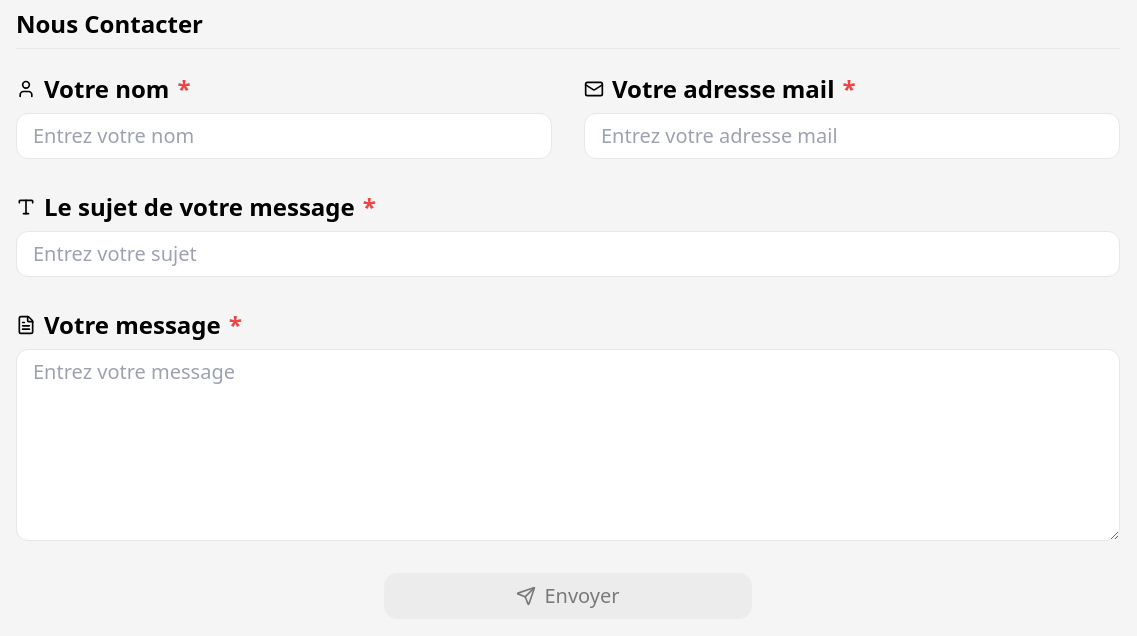
contact.vue › should render the submit button as enabled when the form is valid
Type "John Doe" into the field labelled "Votre nom *" at coordinates (284, 136), box [16,113,552,159]
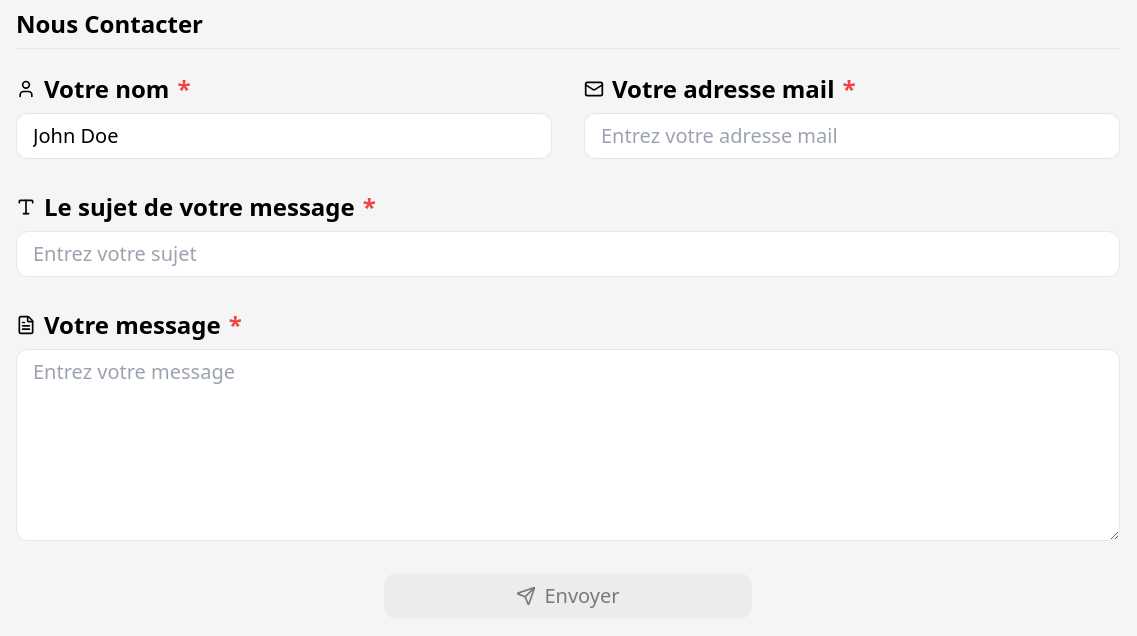
Type "john@example.com" into the field labelled "Votre adresse mail *" at coordinates (852, 136), box [584,113,1120,159]
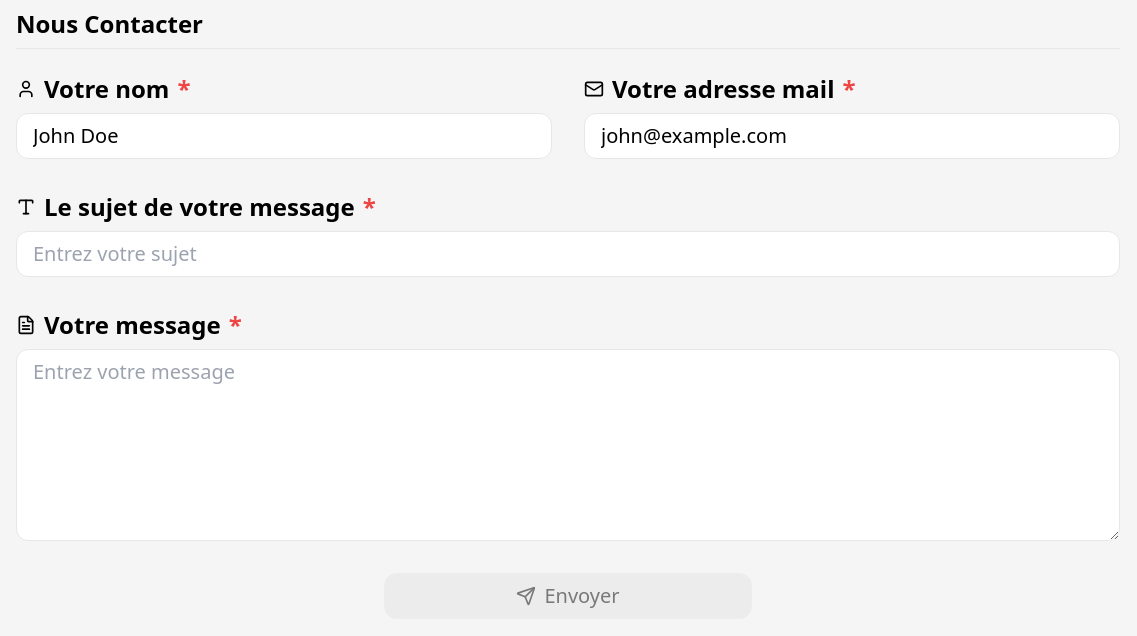
Type "Hello" into the field labelled "Le sujet de votre message *" at coordinates (568, 254), box [16,231,1120,277]
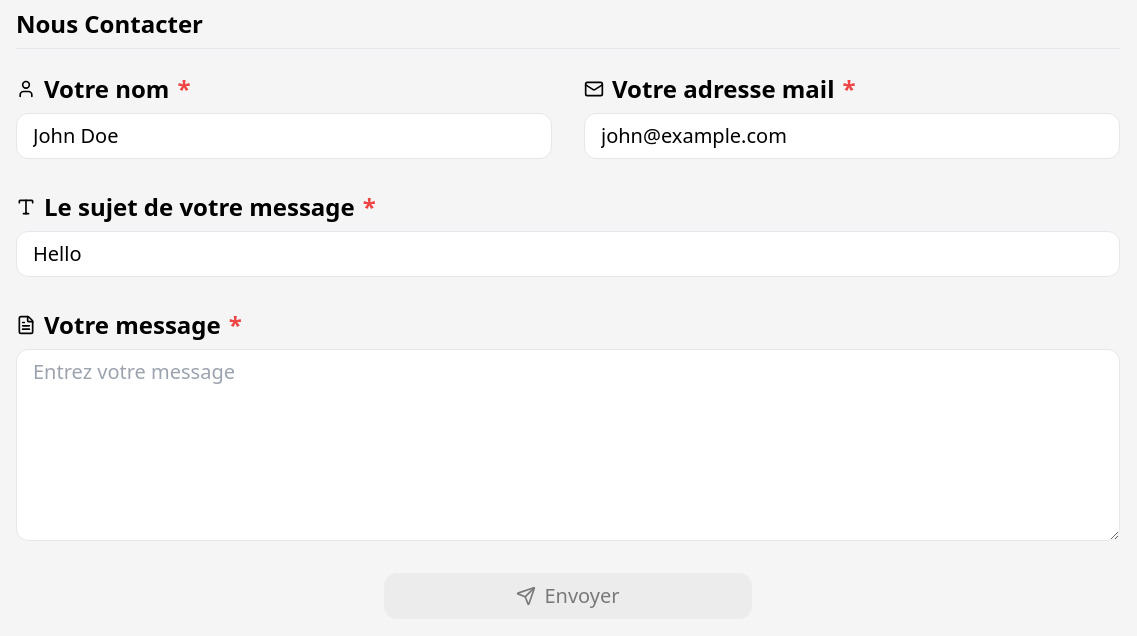
Type "Message content" into the text box labelled "Votre message *" at coordinates (568, 445), box [16,349,1120,541]
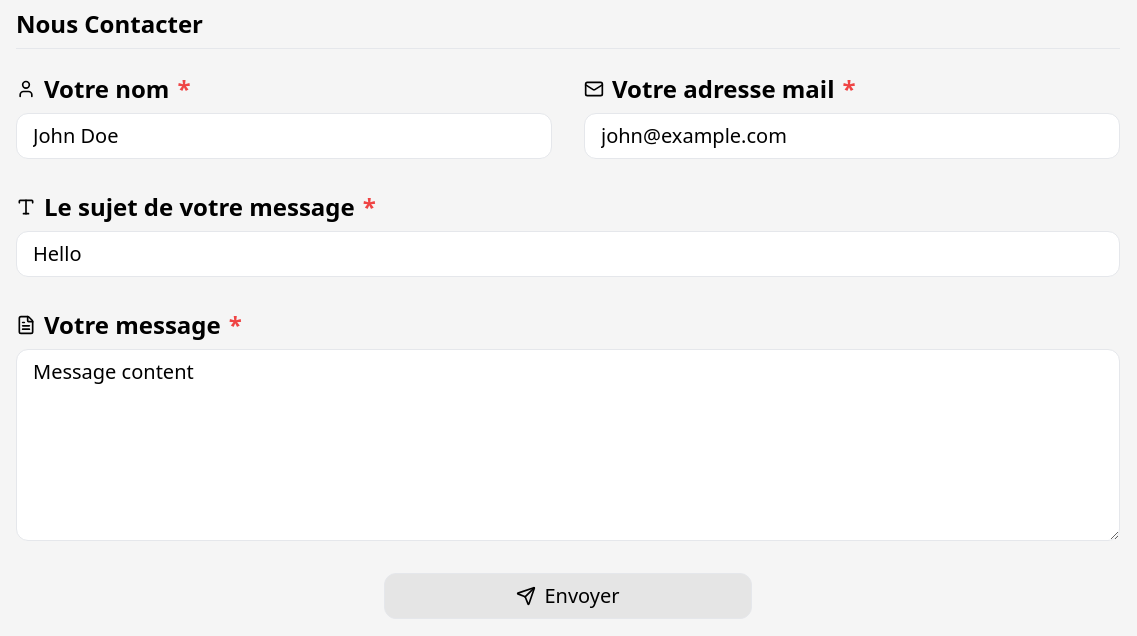
Expected: the button "Envoyer" is enabled, [384,573,752,619]
